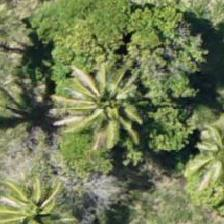coconut_tree: (54, 52, 144, 142), (176, 107, 223, 197)
